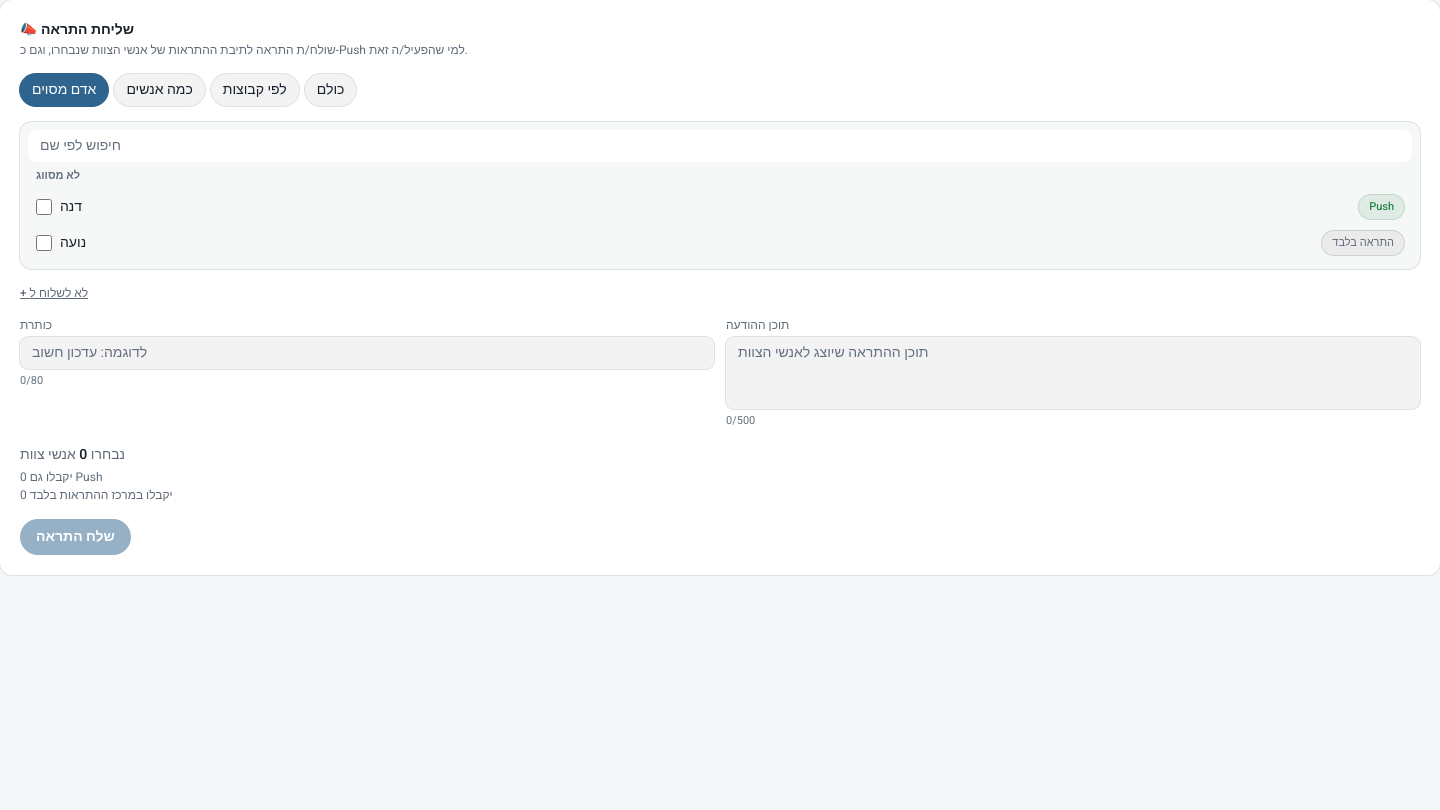
Test case: ManagerBroadcastComposer › selecting a person enables send once title/body are also filled, and updates the live audience summary
The width and height of the screenshot is (1440, 810).
Click the text "דנה".
click(71, 206)  # box top-left (60, 196), bottom-right (82, 216)
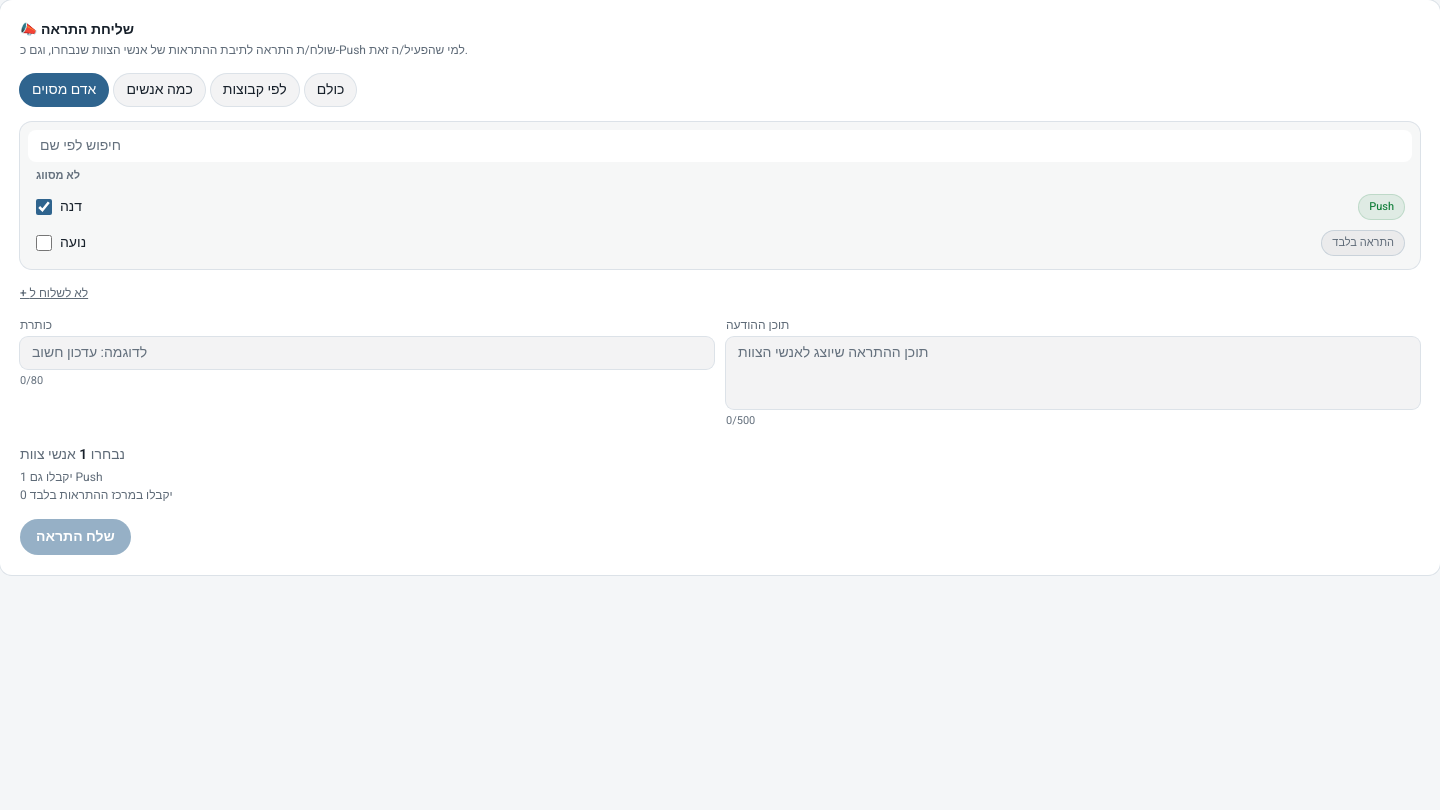
Type "כותרת" into the field with placeholder "לדוגמה: עדכון חשוב".
click(367, 352); type("כותרת")  # box top-left (20, 336), bottom-right (714, 368)
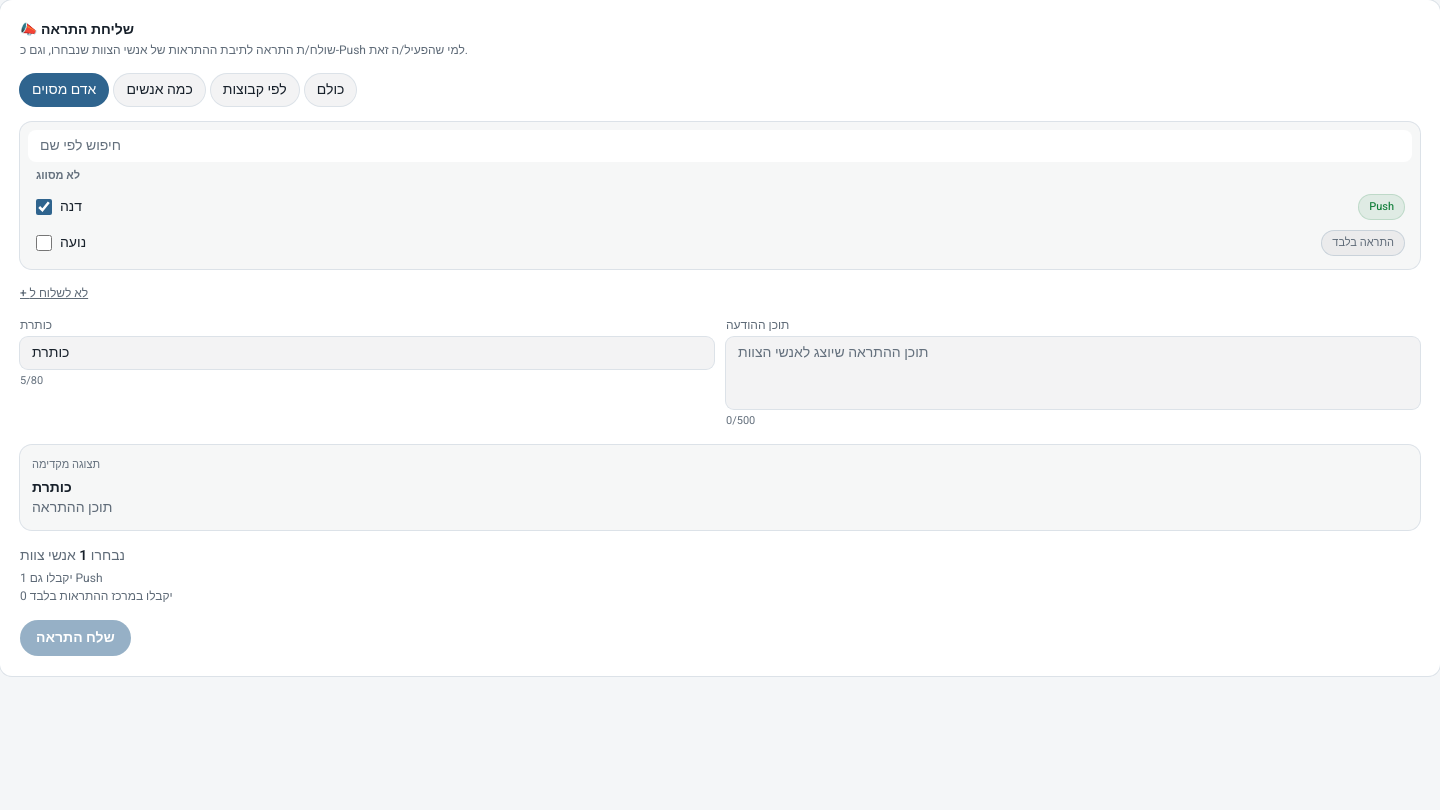
Type "תוכן ההודעה" into the text box with placeholder "תוכן ההתראה שיוצג לאנשי הצוות".
click(1073, 372); type("תוכן ההודעה")  # box top-left (726, 336), bottom-right (1420, 408)
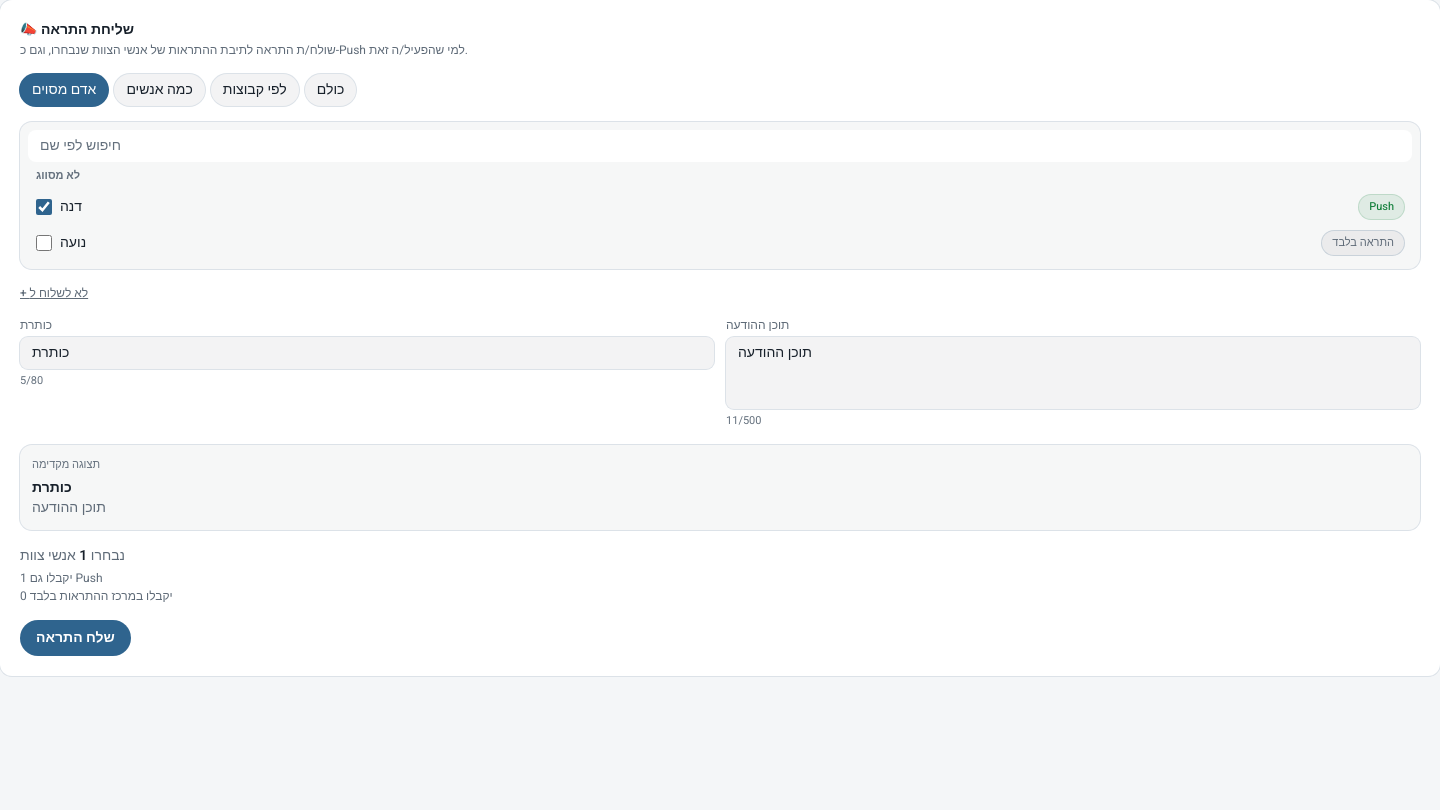
Check: the button "שלח התראה" is enabled, box top-left (20, 620), bottom-right (131, 656)
